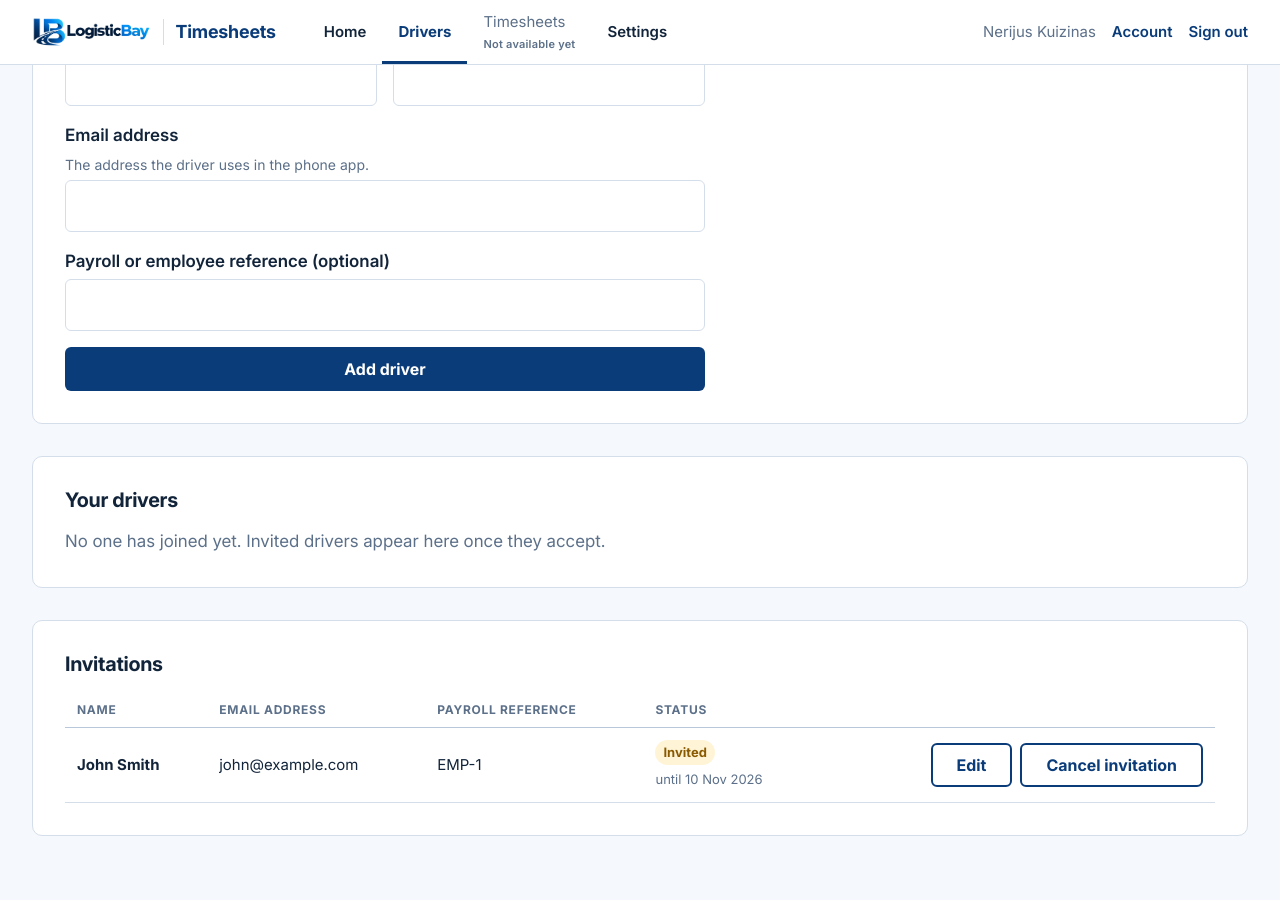
Test: correcting and cancelling › DP13. an invitation the driver answered meanwhile cannot be changed — the page says so and shows where it now stands: one of Your drivers
(page scrolled)
expect the row that starts with "John Smith" is shown: met, box [65, 728, 1215, 803]
What coordinates should you click on to do the following:
click the button "Cancel invitation"
I would click on:
 (1112, 765)
Its box is [1020, 743, 1203, 787].
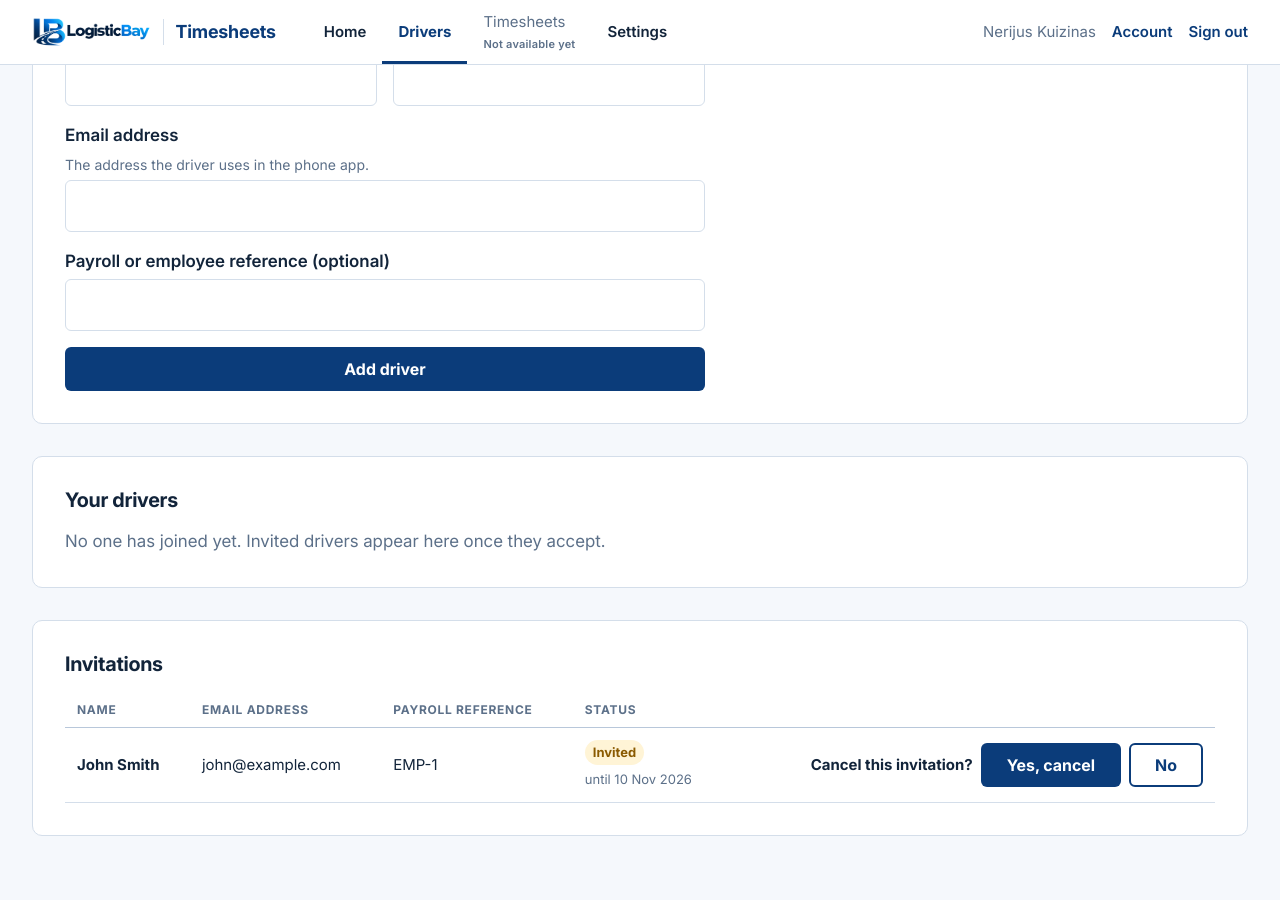
What coordinates should you click on to do the following:
click the button "Yes, cancel"
I would click on:
 (1051, 765)
Its box is [981, 743, 1121, 787].
(page scrolled)
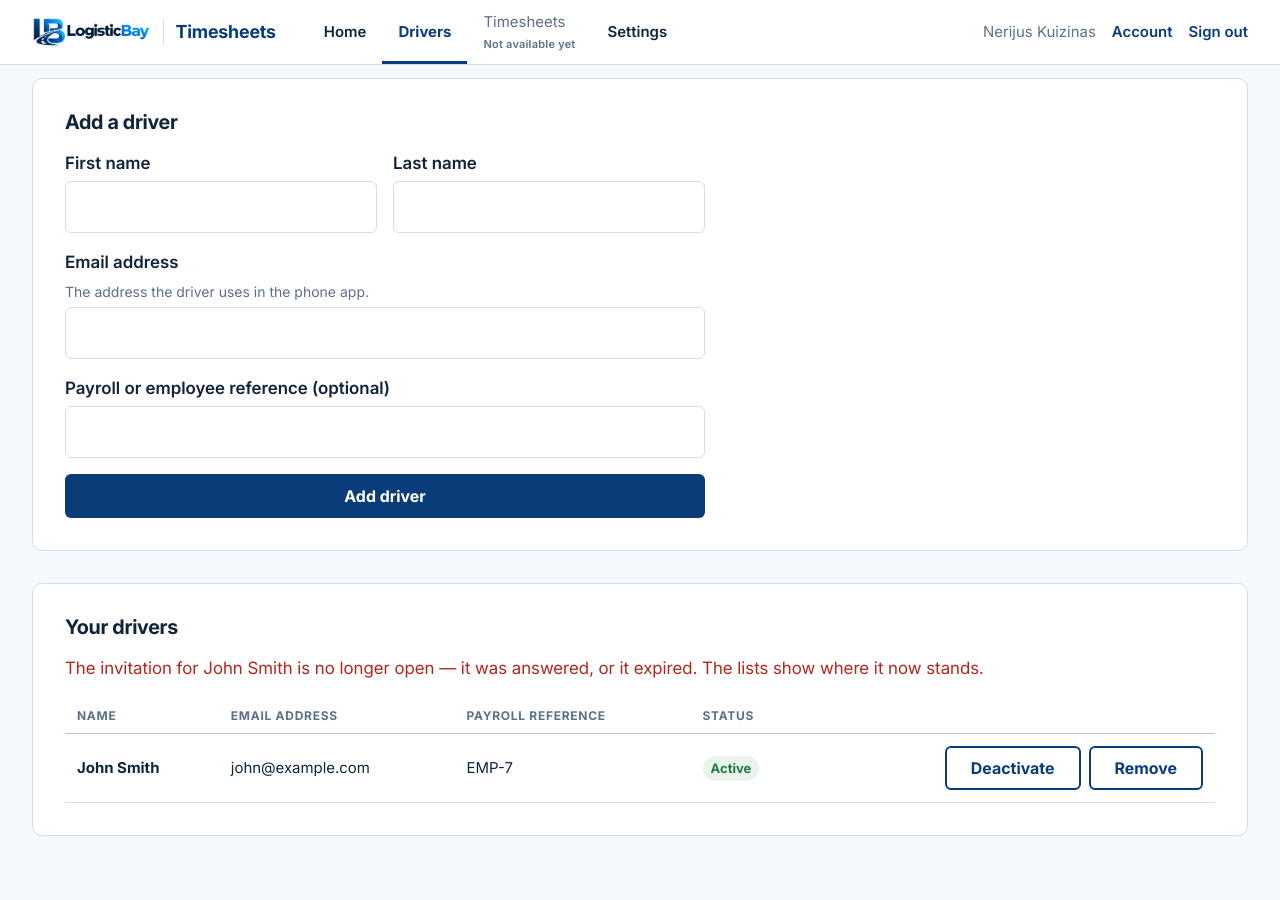
expect the message shows "no longer open": met, box [65, 658, 984, 678]
expect the row "John Smith john@example.com EMP-7 Active Deactivate Remove" is shown: met, box [65, 734, 1215, 803]
expect the heading "Invitations" is gone: met
